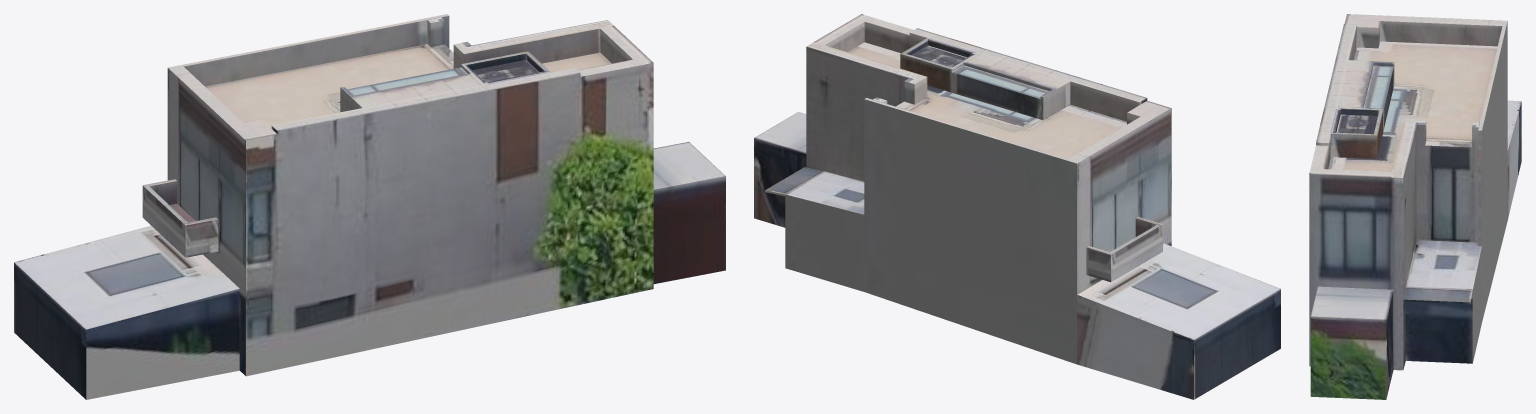
3 views of the same model, side by side, from view 1: azimuth 30°, elevation 25°; view 2: azimuth 150°, elevation 25°; view 3: azimuth 270°, elevation 25° (orthographic). The views are drawn at different scales.
Visible parts, largest first — view 1: B285754037601062A0; view 2: B285754037601062A0; view 3: B285754037601062A0.
Boxes of the visible parts, <box> form: B285754037601062A0: <box>14,14,725,399</box>; B285754037601062A0: <box>754,14,1280,399</box>; B285754037601062A0: <box>1309,14,1521,399</box>.
Bounding box in the file's own units: 23.46 × 8.77 × 8.32.
1 material, 1 textured.
